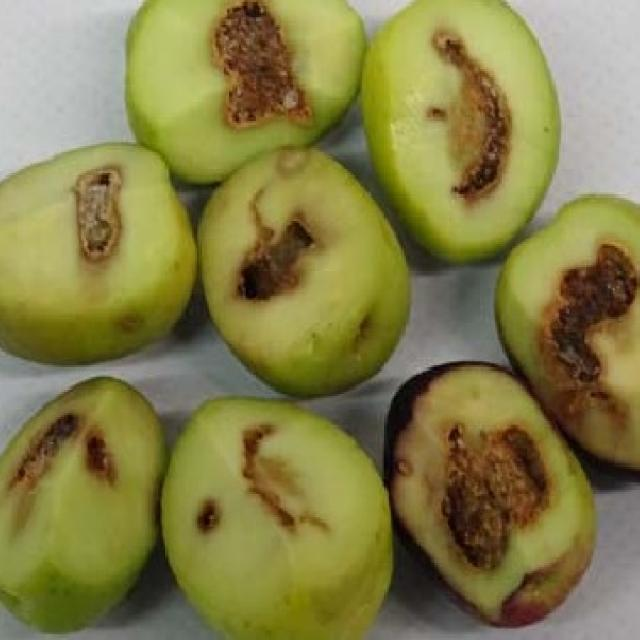Anthracnose: (384, 362, 595, 624), (162, 400, 392, 638), (360, 0, 558, 261), (198, 150, 408, 390), (128, 0, 364, 183), (2, 142, 195, 363), (0, 376, 165, 628), (495, 194, 638, 450)
